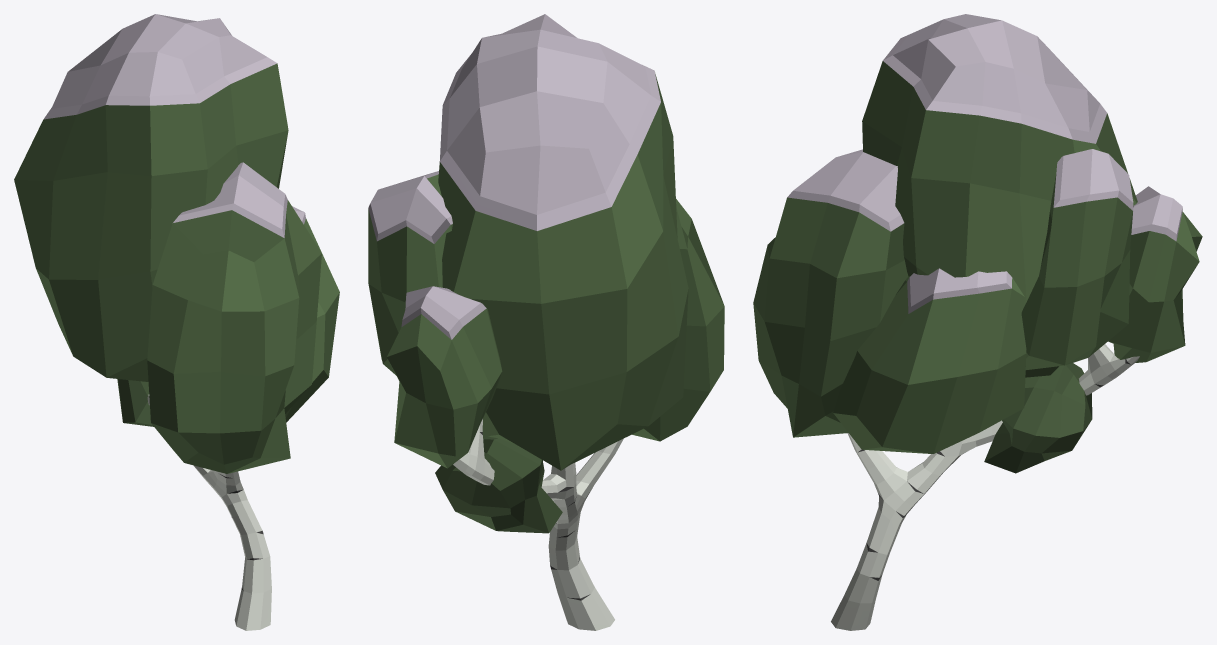
The model's file is birch_tree_snow_1.glb.
3 renders of one model, left to right at view 1: azimuth 30°, elevation 25°; view 2: azimuth 150°, elevation 25°; view 3: azimuth 270°, elevation 25°, orthographic. The views are drawn at different scales.
Parts seen in each view (by area): view 1: birch_tree_snow_1; view 2: birch_tree_snow_1; view 3: birch_tree_snow_1.
Boxes of the visible parts, bbox=[...] form: birch_tree_snow_1: bbox=[14, 14, 339, 630]; birch_tree_snow_1: bbox=[368, 14, 724, 630]; birch_tree_snow_1: bbox=[753, 14, 1202, 630].
Size of the model in its own units: 1.7 by 3.59 by 2.48.
1 material, 1 textured.
